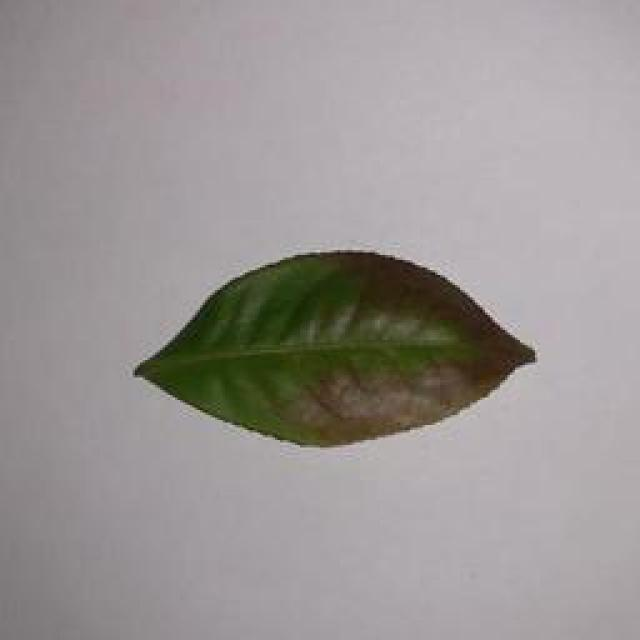Red Leaf Spot: (126, 243, 536, 448)
